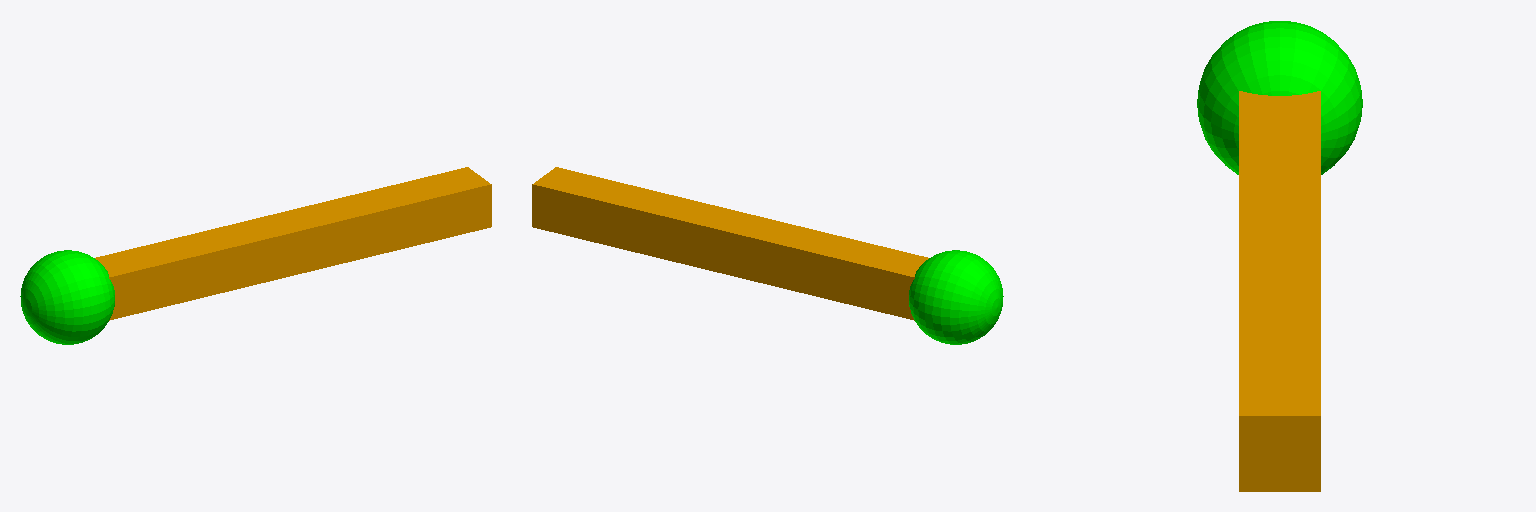
robot.urdf — panda:
<?xml version="1.0" ?>
<robot name="panda" xmlns:xacro="http://www.ros.org/wiki/xacro">
  <link name="panda_link0">
    <visual>
      <geometry>
        <mesh filename="package://franka_description/meshes/visual/link0.dae"/>
      </geometry>
    </visual>
    <collision>
      <geometry>
        <mesh filename="package://franka_description/meshes/collision/link0.obj"/>
      </geometry>
    </collision>
  </link>
  <link name="panda_link1">
    <visual>
      <geometry>
        <mesh filename="package://franka_description/meshes/visual/link1.dae"/>
      </geometry>
    </visual>
    <collision>
      <geometry>
        <mesh filename="package://franka_description/meshes/collision/link1.obj"/>
      </geometry>
    </collision>
  </link>
  <joint name="panda_joint1" type="revolute">
    <safety_controller k_position="100.0" k_velocity="40.0" soft_lower_limit="-2.8973" soft_upper_limit="2.8973"/>
    <origin rpy="0 0 0" xyz="0 0 0.333"/>
    <parent link="panda_link0"/>
    <child link="panda_link1"/>
    <axis xyz="0 0 1"/>
    <dynamics damping="10.0"/>
    <limit effort="87" lower="-2.8973" upper="2.8973" velocity="2.1750"/>
  </joint>
  <link name="panda_link2">
    <visual>
      <geometry>
        <mesh filename="package://franka_description/meshes/visual/link2.dae"/>
      </geometry>
    </visual>
    <collision>
      <geometry>
        <mesh filename="package://franka_description/meshes/collision/link2.obj"/>
      </geometry>
    </collision>
  </link>
  <joint name="panda_joint2" type="revolute">
    <safety_controller k_position="100.0" k_velocity="40.0" soft_lower_limit="-1.7628" soft_upper_limit="1.7628"/>
    <origin rpy="-1.57079632679 0 0" xyz="0 0 0"/>
    <parent link="panda_link1"/>
    <child link="panda_link2"/>
    <axis xyz="0 0 1"/>
    <dynamics damping="10.0"/>
    <limit effort="87" lower="-1.7628" upper="1.7628" velocity="2.1750"/>
  </joint>
  <link name="panda_link3">
    <visual>
      <geometry>
        <mesh filename="package://franka_description/meshes/visual/link3.dae"/>
      </geometry>
    </visual>
    <collision>
      <geometry>
        <mesh filename="package://franka_description/meshes/collision/link3.obj"/>
      </geometry>
    </collision>
  </link>
  <joint name="panda_joint3" type="revolute">
    <safety_controller k_position="100.0" k_velocity="40.0" soft_lower_limit="-2.8973" soft_upper_limit="2.8973"/>
    <origin rpy="1.57079632679 0 0" xyz="0 -0.316 0"/>
    <parent link="panda_link2"/>
    <child link="panda_link3"/>
    <axis xyz="0 0 1"/>
    <dynamics damping="10.0"/>
    <limit effort="87" lower="-2.8973" upper="2.8973" velocity="2.1750"/>
  </joint>
  <link name="panda_link4">
    <visual>
      <geometry>
        <mesh filename="package://franka_description/meshes/visual/link4.dae"/>
      </geometry>
    </visual>
    <collision>
      <geometry>
        <mesh filename="package://franka_description/meshes/collision/link4.obj"/>
      </geometry>
    </collision>
  </link>
  <joint name="panda_joint4" type="revolute">
    <safety_controller k_position="100.0" k_velocity="40.0" soft_lower_limit="-3.0718" soft_upper_limit="-0.0698"/>
    <origin rpy="1.57079632679 0 0" xyz="0.0825 0 0"/>
    <parent link="panda_link3"/>
    <child link="panda_link4"/>
    <axis xyz="0 0 1"/>    
    <dynamics damping="10.0"/>
    <limit effort="87" lower="-3.0718" upper="-0.0698" velocity="2.1750"/>
    <!-- something is weird with this joint limit config
    <dynamics damping="10.0"/>
    <limit effort="87" lower="-3.0" upper="0.087" velocity="2.1750"/>  -->
  </joint>
  <link name="panda_link5">
    <visual>
      <geometry>
        <mesh filename="package://franka_description/meshes/visual/link5.dae"/>
      </geometry>
    </visual>
    <collision>
      <geometry>
        <mesh filename="package://franka_description/meshes/collision/link5.obj"/>
      </geometry>
    </collision>
  </link>
  <joint name="panda_joint5" type="revolute">
    <safety_controller k_position="100.0" k_velocity="40.0" soft_lower_limit="-2.8973" soft_upper_limit="2.8973"/>
    <origin rpy="-1.57079632679 0 0" xyz="-0.0825 0.384 0"/>
    <parent link="panda_link4"/>
    <child link="panda_link5"/>
    <axis xyz="0 0 1"/>
    <dynamics damping="10.0"/>
    <limit effort="12" lower="-2.8973" upper="2.8973" velocity="2.6100"/>
  </joint>
  <link name="panda_link6">
    <visual>
      <geometry>
        <mesh filename="package://franka_description/meshes/visual/link6.dae"/>
      </geometry>
    </visual>
    <collision>
      <geometry>
        <mesh filename="package://franka_description/meshes/collision/link6.obj"/>
      </geometry>
    </collision>
  </link>
  <joint name="panda_joint6" type="revolute">
    <safety_controller k_position="100.0" k_velocity="40.0" soft_lower_limit="-0.0175" soft_upper_limit="3.7525"/>
    <origin rpy="1.57079632679 0 0" xyz="0 0 0"/>
    <parent link="panda_link5"/>
    <child link="panda_link6"/>
    <axis xyz="0 0 1"/>
    <dynamics damping="10.0"/>
    <limit effort="12" lower="-0.0175" upper="3.7525" velocity="2.6100"/>
    <!-- <dynamics damping="10.0"/>
    <limit effort="12" lower="-0.0873" upper="3.0" velocity="2.6100"/> -->
  </joint>
  <link name="panda_link7">
    <visual>
      <geometry>
        <mesh filename="package://franka_description/meshes/visual/link7.dae"/>
      </geometry>
    </visual>
    <collision>
      <geometry>
        <mesh filename="package://franka_description/meshes/collision/link7.obj"/>
      </geometry>
    </collision>
  </link>
  <joint name="panda_joint7" type="revolute">
    <safety_controller k_position="100.0" k_velocity="40.0" soft_lower_limit="-2.8973" soft_upper_limit="2.8973"/>
    <origin rpy="1.57079632679 0 0" xyz="0.088 0 0"/>
    <parent link="panda_link6"/>
    <child link="panda_link7"/>
    <axis xyz="0 0 1"/>
    <dynamics damping="10.0"/>
    <limit effort="12" lower="-2.8973" upper="2.8973" velocity="2.6100"/>
  </joint>

  <!-- Ball EEF -->
  <link name="ball_EEF_rod">
  <visual>
    <geometry>
      <box size=".01 .01 .1"/>
    </geometry>
  </visual>
  <collision>
    <geometry>
      <box size=".01 .01 .1"/>
    </geometry>
  </collision>
  </link>

  <link name="ball_EEF">
  <visual>
    <geometry>
      <sphere radius=".01"/>
    </geometry>
    <material name="ball"/>
  </visual>
  <collision>
    <geometry>
      <sphere radius=".01"/>
    </geometry>
    <material name="ball"/>
  </collision>
  </link>

  <joint name="panda_hand_joint" type="fixed">
    <parent link="panda_link7"/>
    <child link="ball_EEF_rod"/>
    <origin rpy="0 0 0" xyz="0 0 .15"/>
  </joint>

  <joint name="ball_EEF_joint" type="fixed">
    <parent link="ball_EEF_rod"/>
    <child link="ball_EEF"/>
    <origin xyz="0 0 .05"/>
  </joint>


  <material name="ball">
    <color rgba="0. 1. 0. 1."/>
  </material>

</robot>

--- Render facts (derived) ---
3 views of the same robot in one strip: view 1: azimuth 30°, elevation 25°; view 2: azimuth 150°, elevation 25°; view 3: azimuth 270°, elevation 25° (orthographic).
Model panda with 10 links and 9 joints (7 revolute, 2 fixed), rooted at panda_link0, posed all joints at 0 but 1 set to mid-range because 0 is outside their limits (panda_joint4 = -1.57).
Links seen in each view (by area): view 1: ball_EEF_rod, ball_EEF; view 2: ball_EEF_rod, ball_EEF; view 3: ball_EEF_rod, ball_EEF.
Boxes of the visible links, x1,y1,x2,y2 form: ball_EEF_rod: [95, 167, 491, 320]; ball_EEF: [20, 250, 114, 344]; ball_EEF_rod: [532, 167, 928, 320]; ball_EEF: [909, 250, 1003, 344]; ball_EEF_rod: [1239, 91, 1320, 491]; ball_EEF: [1197, 21, 1362, 174].
Size in the robot's own frame: 0.11 by 0.02 by 0.02 metres.
Meshes: 8 distinct files referenced, 0 mesh visuals loaded (none loaded); not drawn: 8 (reference not matched to a file when rendering).